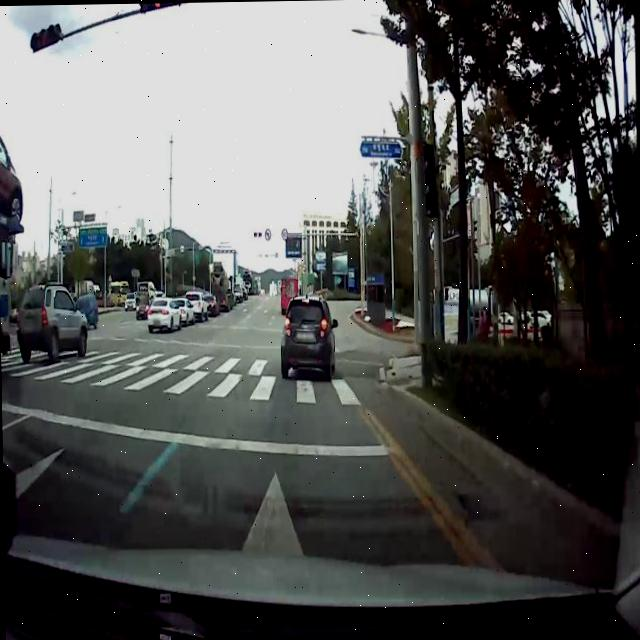crosswalk: (1, 342, 364, 407)
